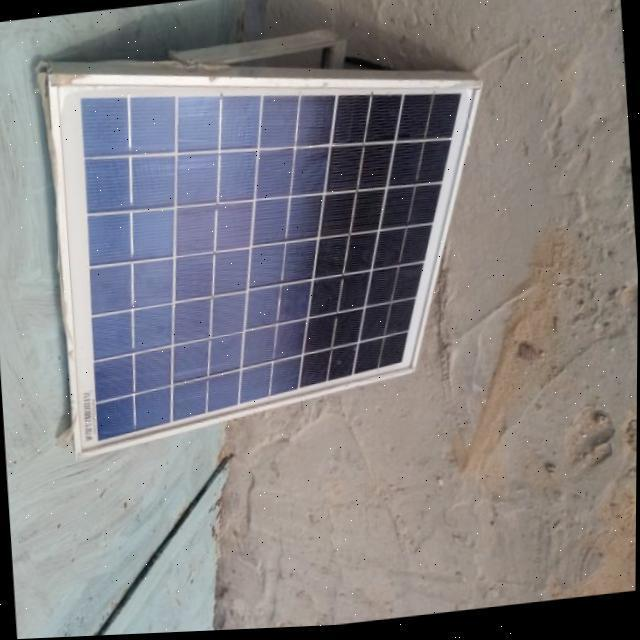Normal Solar Panel: (48, 26, 504, 454)
